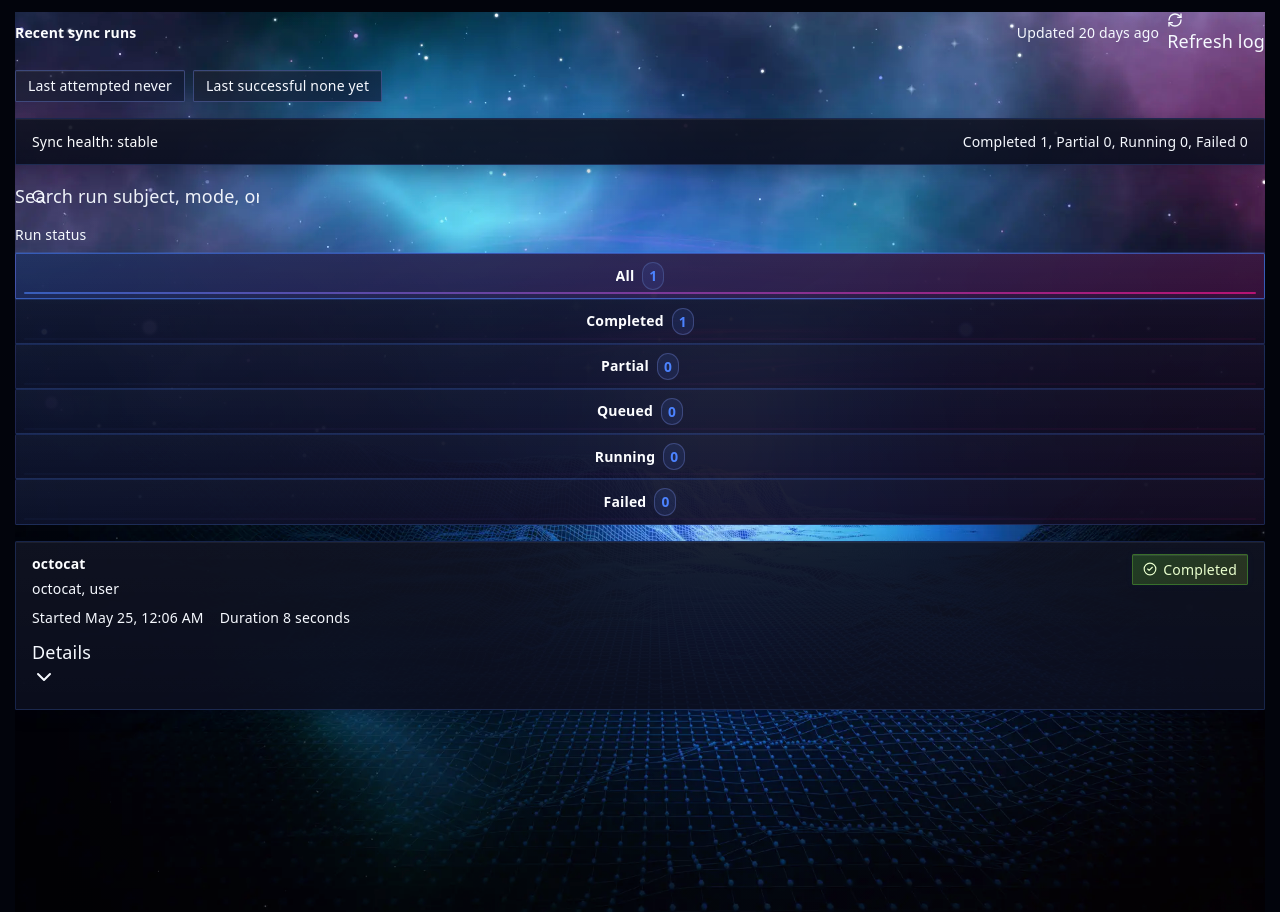
Test: SyncRunActivityPanel › shows authored target count insight for completed runs
This screenshot has width=1280, height=912.
Click the button "Details" at (62, 664), box [32,639,91,689]
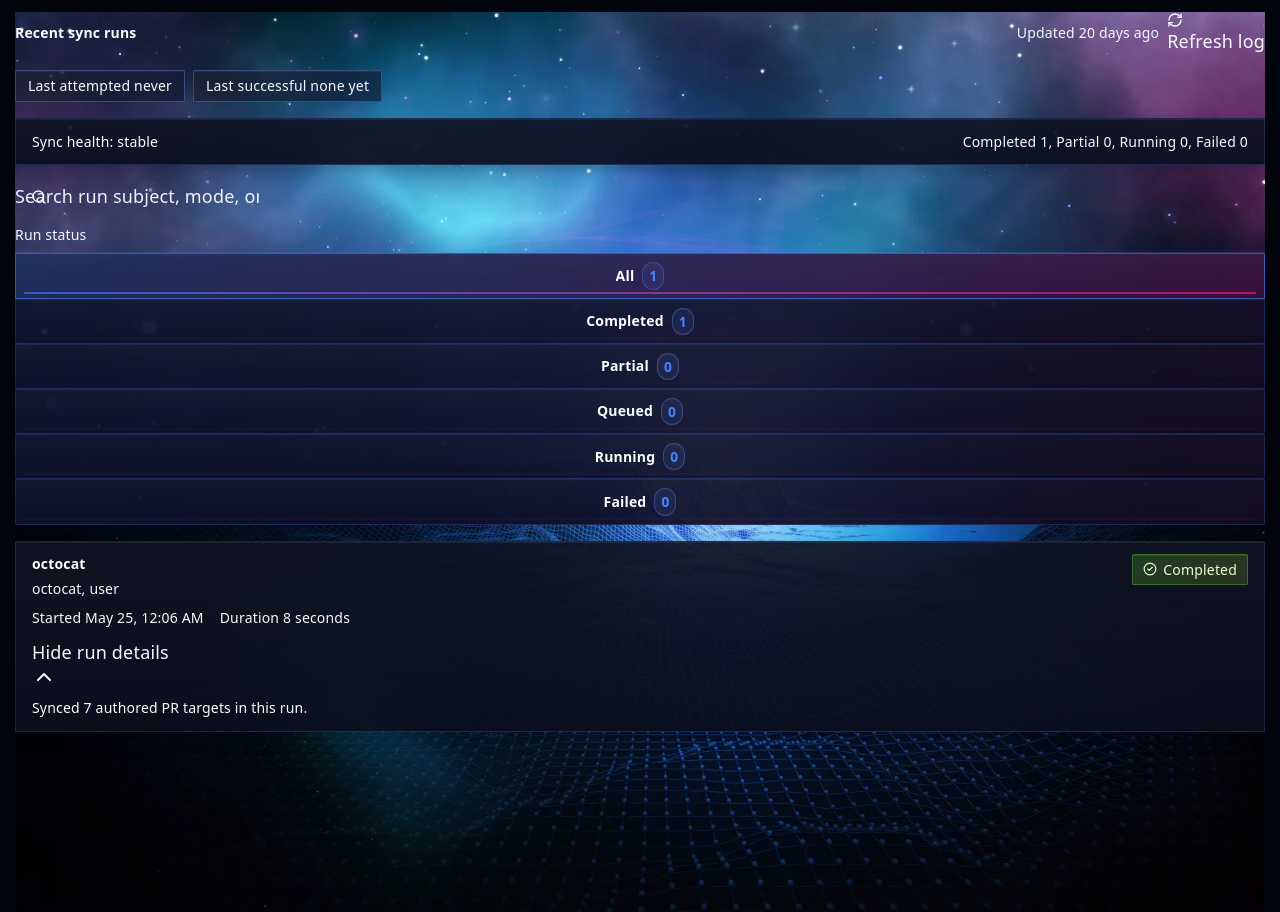
Now the text "Synced 7 authored PR targets in this run." is shown, box [32,698,307,717]
